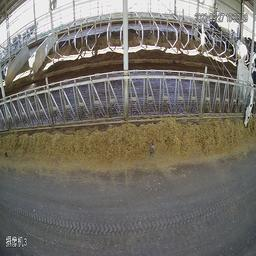cow: (235, 56, 254, 127), (211, 20, 223, 47), (194, 27, 211, 43), (236, 40, 247, 63), (223, 36, 234, 54), (229, 26, 239, 40), (244, 35, 254, 48)
